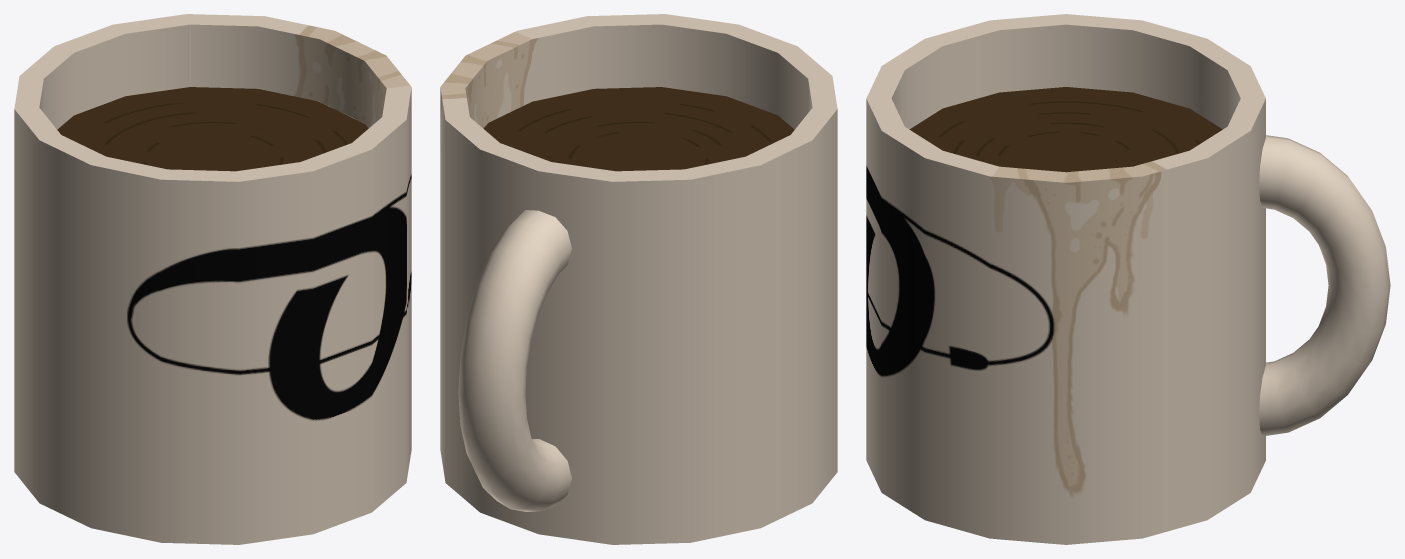
Rendered from Coffee_cup.fbx.
3 views of the same model, side by side, from view 1: azimuth 30°, elevation 25°; view 2: azimuth 150°, elevation 25°; view 3: azimuth 270°, elevation 25° (orthographic).
Visible parts, largest first — view 1: Cylinder; view 2: Cylinder, Torus; view 3: Cylinder, Torus.
Part boxes in pixels (x1=…): Cylinder: x1=14, y1=14, x2=411, y2=544; Cylinder: x1=440, y1=14, x2=837, y2=544; Torus: x1=458, y1=210, x2=571, y2=511; Cylinder: x1=866, y1=14, x2=1265, y2=544; Torus: x1=1259, y1=135, x2=1390, y2=436.
Size of the model in its own units: 200 by 200 by 262.
